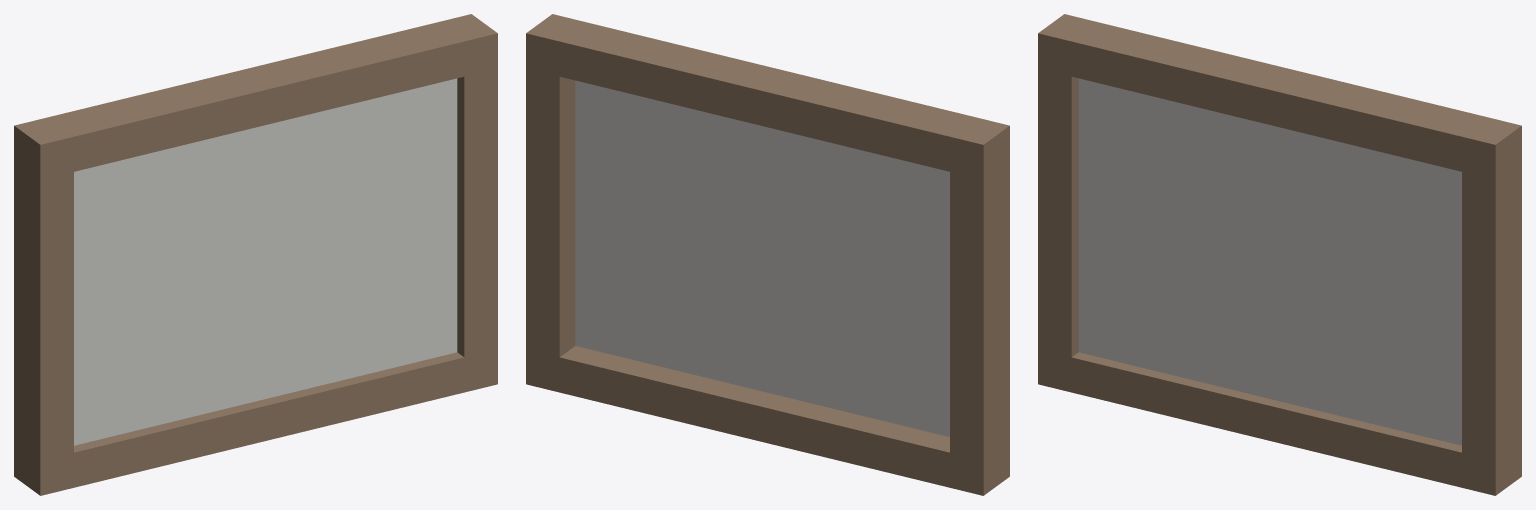
The model's file is picture-frame.glb.
The picture shows the model from 3 angles, left to right: view 1: azimuth 30°, elevation 25°; view 2: azimuth 150°, elevation 25°; view 3: azimuth 330°, elevation 25°; orthographic projection.
Parts seen in each view (by area): view 1: geometry_0; view 2: geometry_0; view 3: geometry_0.
Part boxes in pixels (left/top/right/bottom): geometry_0: left=14, top=14, right=497, bottom=495; geometry_0: left=526, top=14, right=1009, bottom=495; geometry_0: left=1038, top=14, right=1521, bottom=495.
Bounding box in the file's own units: 0.3 × 0.22 × 0.03.
